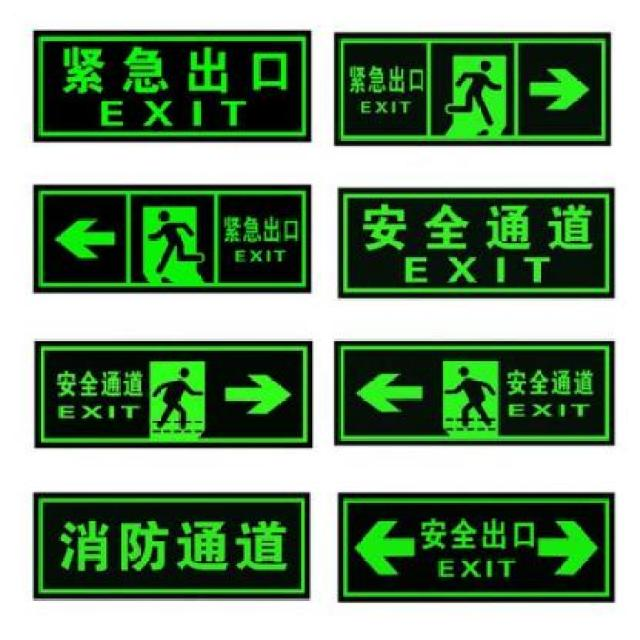exit_sign: (20, 18, 311, 150), (32, 484, 325, 604), (28, 180, 313, 301), (337, 30, 615, 148), (32, 334, 312, 451), (334, 344, 622, 456), (341, 186, 617, 295), (336, 495, 608, 604)
